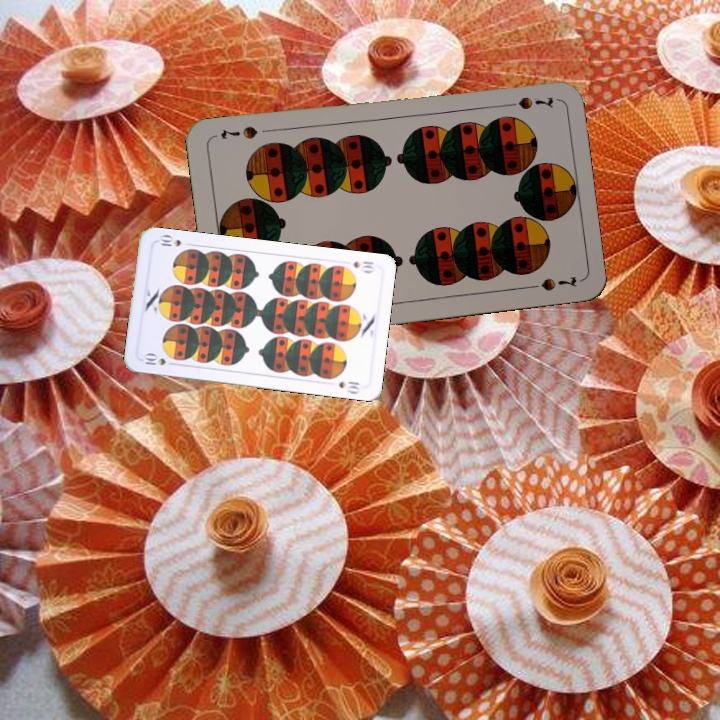S10: (349, 257, 378, 275), (141, 350, 168, 368)
S7: (498, 92, 556, 113)
